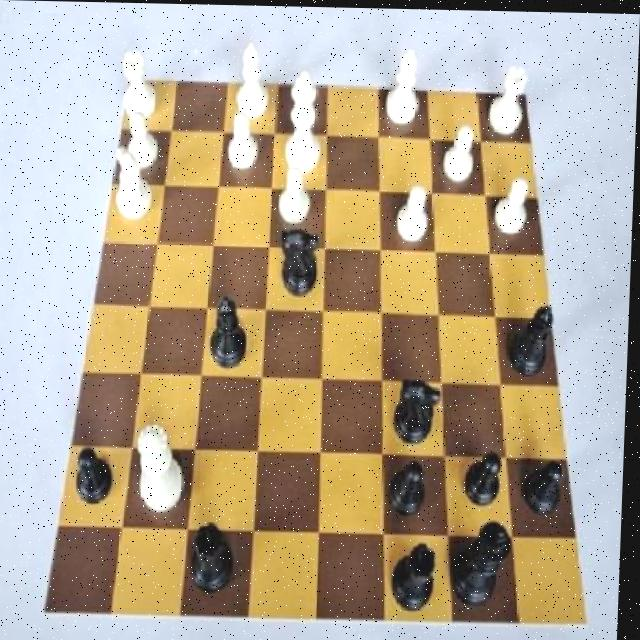bishop: (506, 300, 561, 391), (203, 291, 253, 374)
black-bishop: (453, 516, 522, 613)
black-king: (274, 218, 325, 310), (394, 370, 448, 455)
black-knight: (66, 443, 125, 518), (516, 452, 573, 522), (386, 448, 436, 522), (461, 445, 509, 520)
black-queen: (189, 516, 242, 604), (391, 535, 444, 617)
black-rook: (382, 40, 427, 133), (227, 39, 274, 123)
white-bishop: (282, 67, 326, 179)
white-king: (107, 140, 159, 228)
white-knight: (491, 170, 539, 240), (123, 105, 165, 178), (438, 120, 480, 189), (223, 106, 266, 171), (395, 183, 440, 242), (279, 163, 315, 225)
white-pawn: (131, 423, 194, 524)
white-queen: (491, 53, 532, 142), (117, 45, 162, 125)
